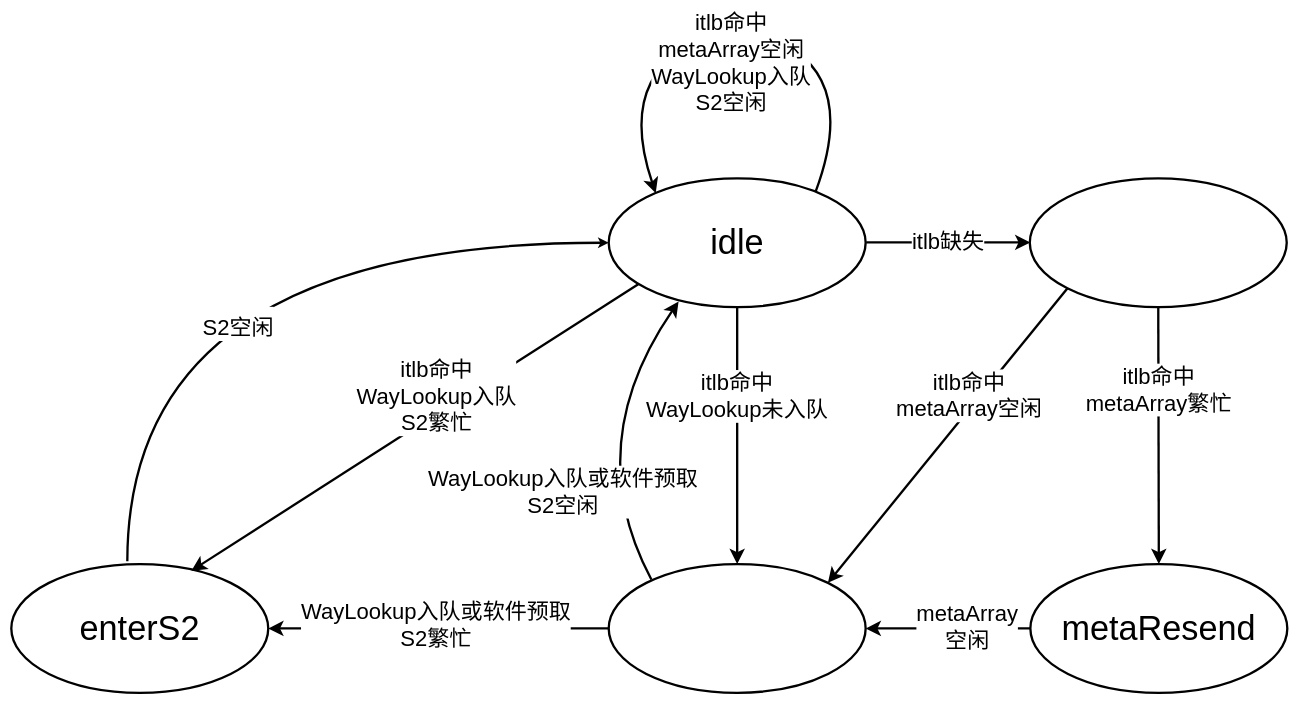
The diagram is 1298 pixels wide and 704 high, and some of its shapes have lost their labels. The centre of each missing label's shape, as x and y in pixels:
enqWay: pixel 737 628
itlbResend: pixel 1158 242
